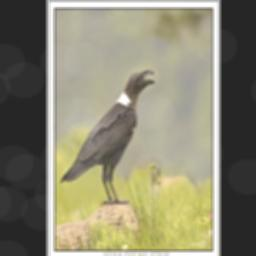Crow: (59, 68, 157, 207)
